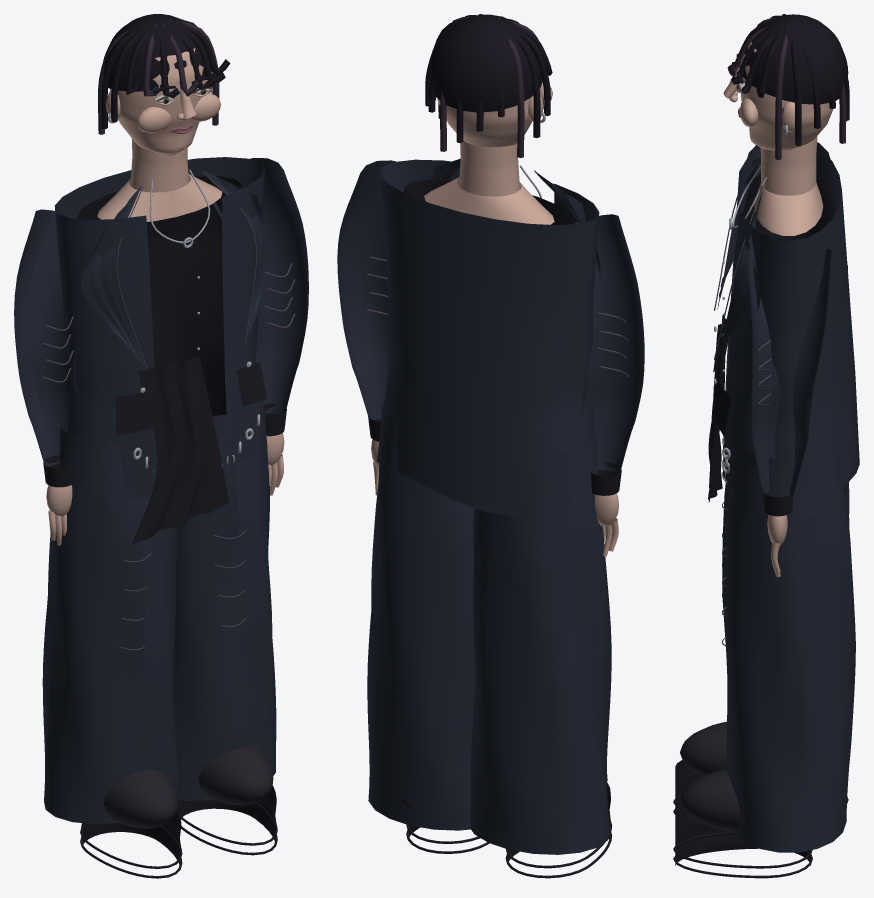
The model's file is look-9-crowd.glb.
3 views of the same model, side by side, from view 1: azimuth 30°, elevation 25°; view 2: azimuth 150°, elevation 25°; view 3: azimuth 270°, elevation 25° (orthographic). The views are drawn at different scales.
Visible parts, largest first — view 1: look-9-crowd, leg-0, leg-1, arm-0, arm-1; view 2: look-9-crowd, leg-0, leg-1, arm-0, arm-1; view 3: leg-1, look-9-crowd, arm-1, leg-0.
Part boxes in pixels (left/top/right/bottom): look-9-crowd: left=54, top=14, right=267, bottom=543; leg-0: left=42, top=427, right=182, bottom=878; leg-1: left=173, top=400, right=277, bottom=855; arm-0: left=14, top=209, right=84, bottom=545; arm-1: left=213, top=158, right=308, bottom=495; look-9-crowd: left=377, top=14, right=600, bottom=516; leg-0: left=470, top=436, right=612, bottom=878; leg-1: left=367, top=398, right=489, bottom=853; arm-0: left=564, top=214, right=644, bottom=556; arm-1: left=337, top=160, right=395, bottom=495; leg-1: left=673, top=444, right=855, bottom=878; look-9-crowd: left=708, top=14, right=859, bottom=517; arm-1: left=745, top=248, right=831, bottom=577; leg-0: left=673, top=482, right=849, bottom=814.
Bounding box in the file's own units: 0.7544 × 2.04 × 0.4199.
